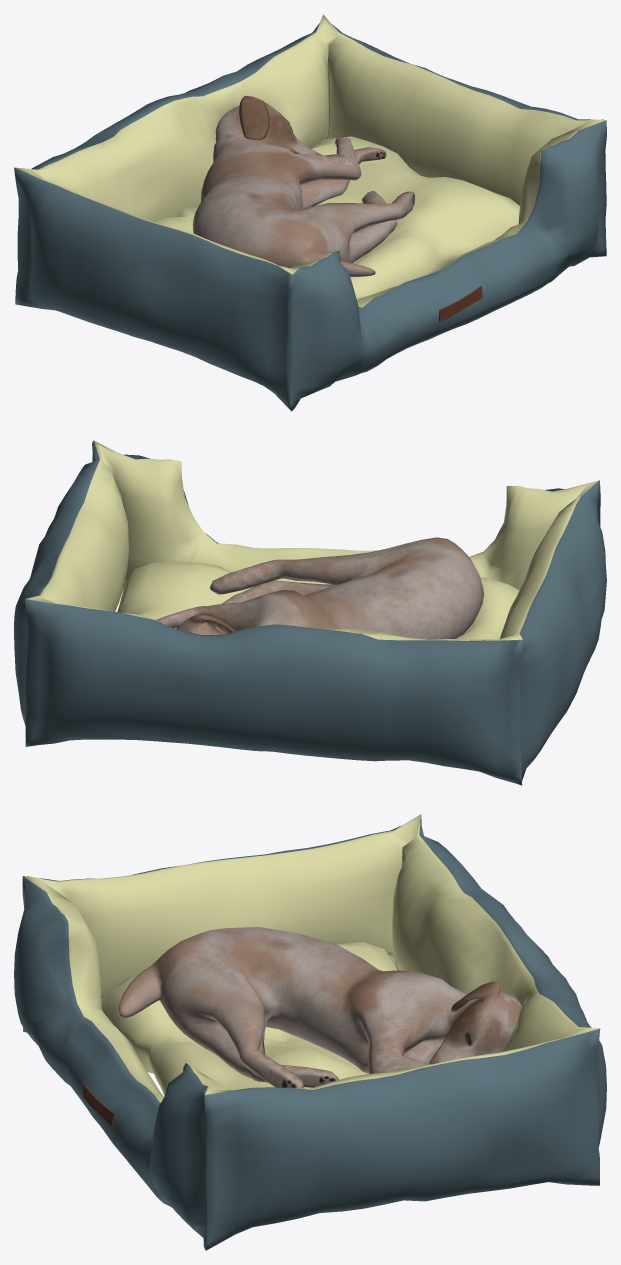
File: sleeping_pega_dog_with_bed.glb
The picture shows the model from 3 angles, top to bottom: view 1: azimuth 30°, elevation 25°; view 2: azimuth 150°, elevation 25°; view 3: azimuth 270°, elevation 25°; orthographic projection. The views are drawn at different scales.
Visible parts, largest first — view 1: Pega Sleep.001_0; view 2: Pega Sleep.001_0; view 3: Pega Sleep.001_0.
Boxes of the visible parts, x1=… form: Pega Sleep.001_0: x1=14, y1=14, x2=606, y2=411; Pega Sleep.001_0: x1=14, y1=440, x2=606, y2=785; Pega Sleep.001_0: x1=14, y1=814, x2=606, y2=1250.
Bounding box in the file's own units: 4.33 × 1.19 × 3.92.
Materials: 4 (2 with a texture image).
